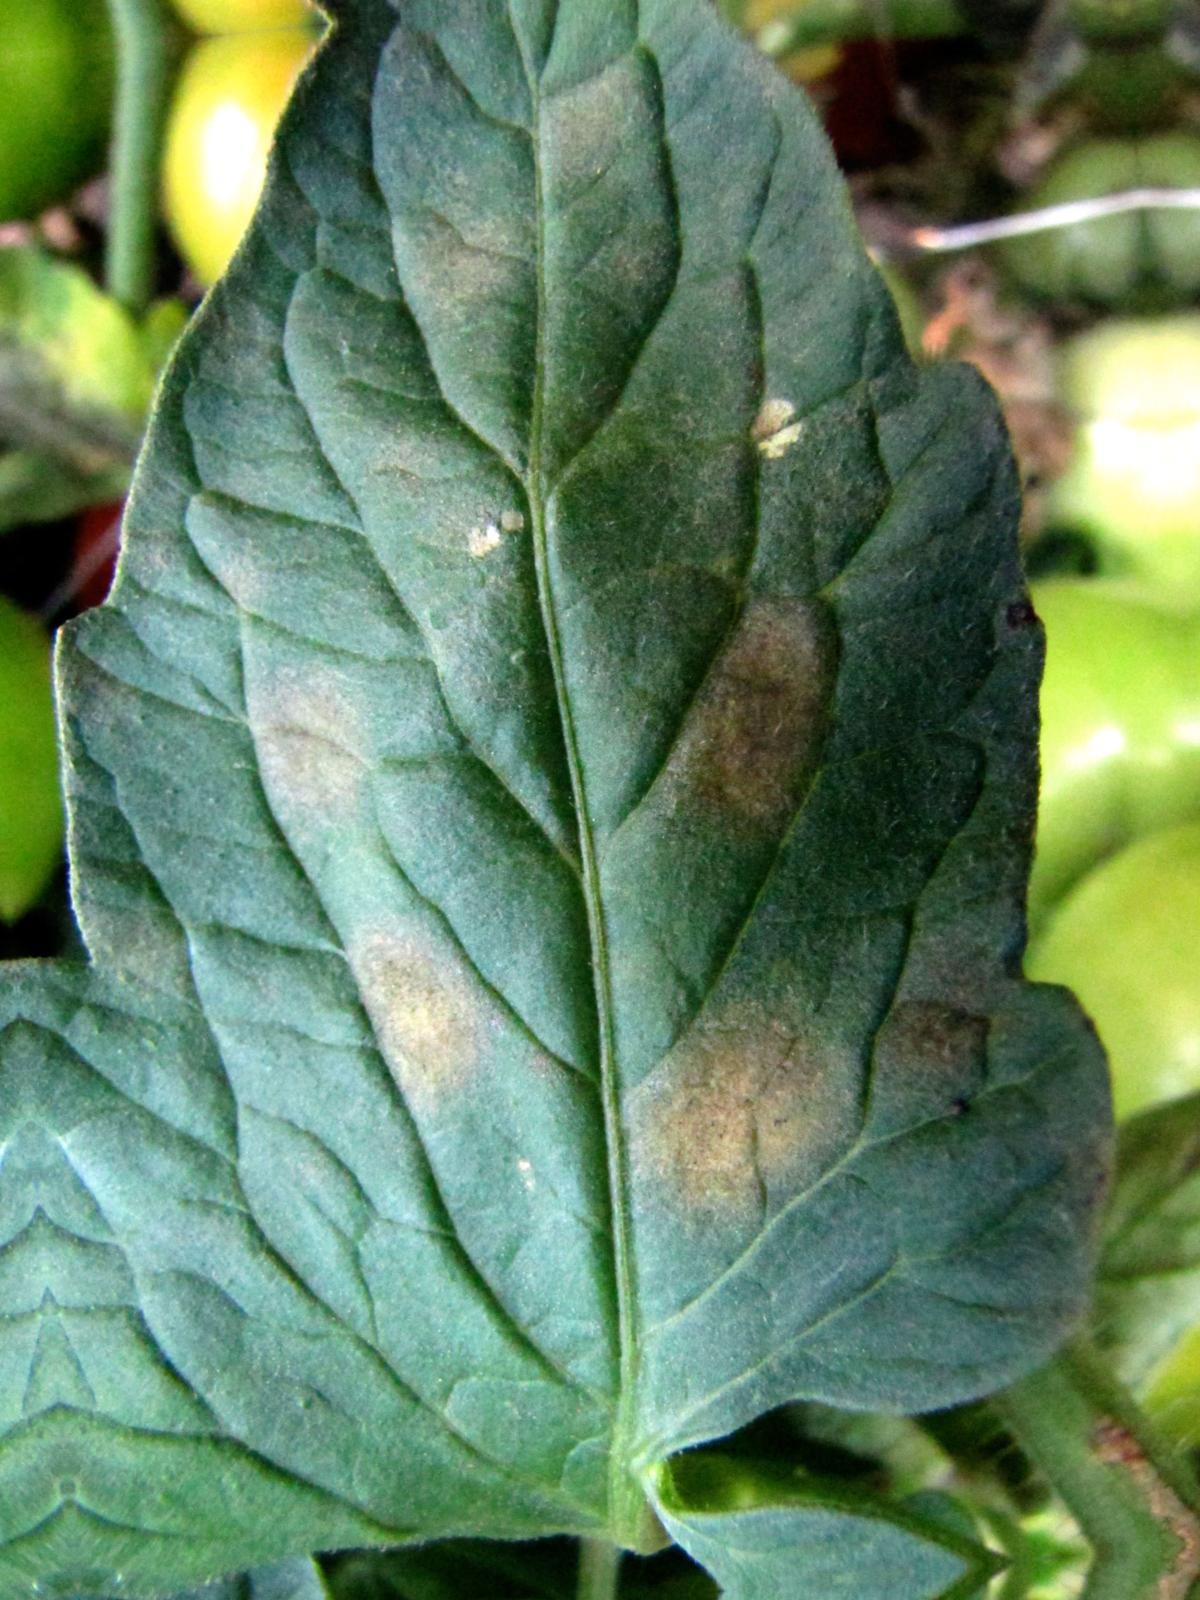Tomato mold leaf: (0, 0, 1158, 1600)
